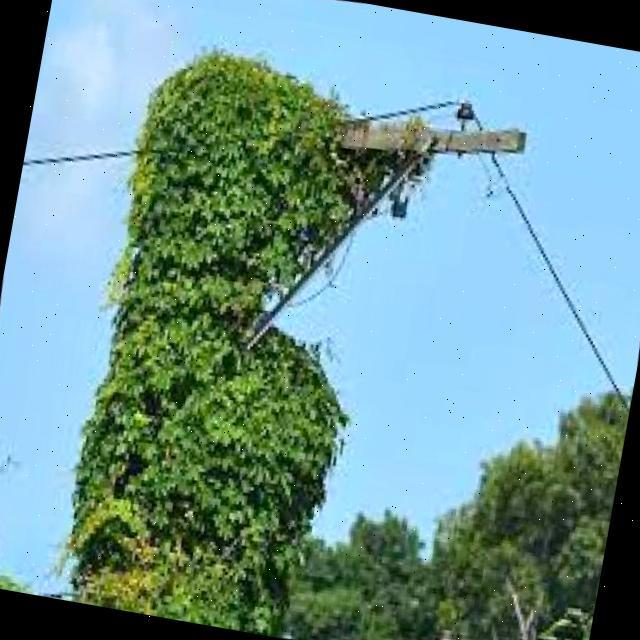critical vegetation: (36, 23, 566, 452)
